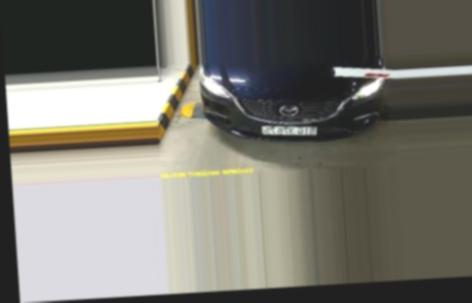License_Plate: (259, 123, 318, 137)
